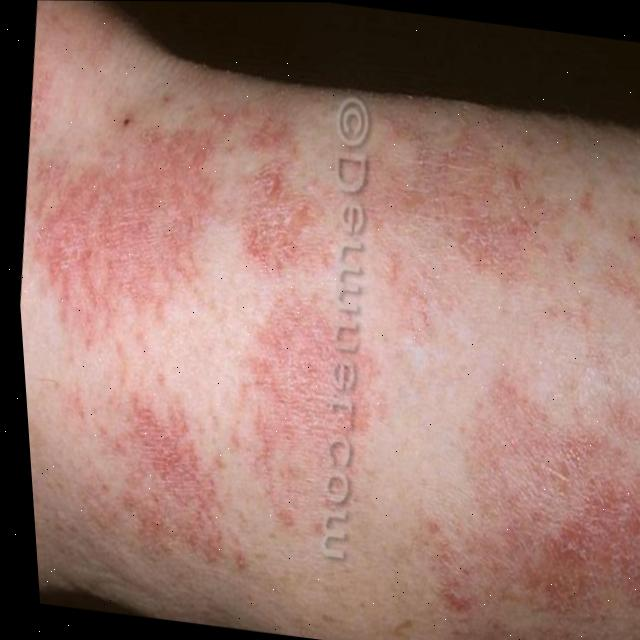Eczema: (24, 76, 640, 632)
